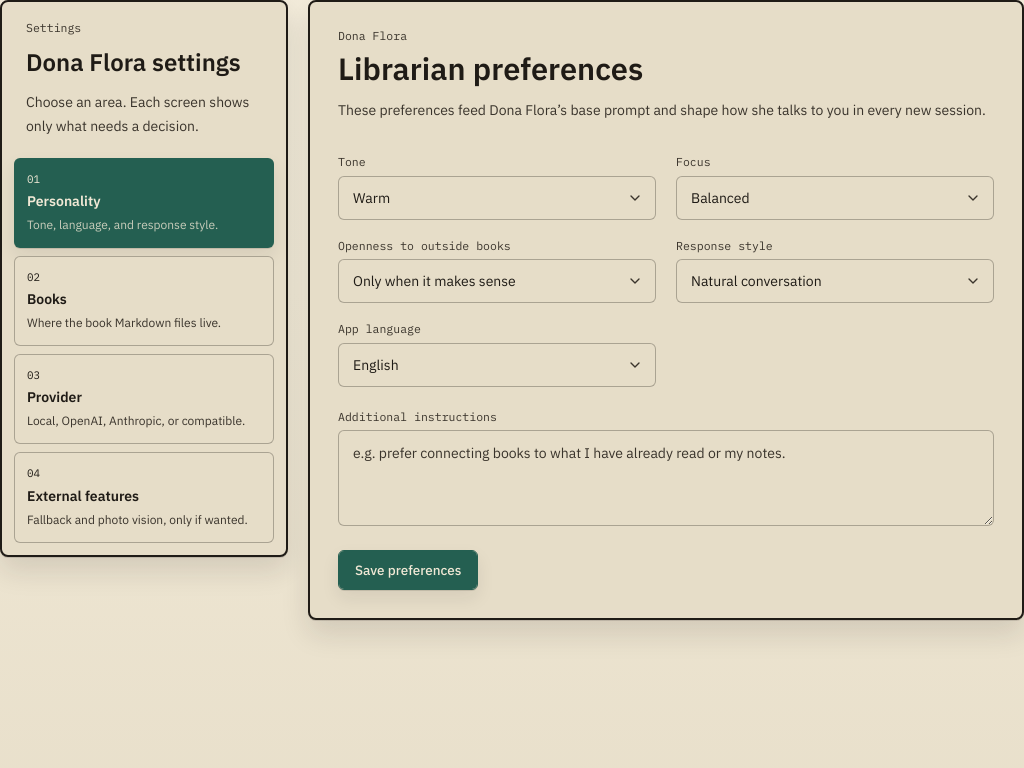
Test: SettingsForm › renders localized AI option labels when the app language is English
Expected: the heading "Librarian preferences" is shown, [338,48,643,88]
Expected: the text "Warm" is shown, [353,189,390,207]
Click the dropdown named "Tone".
click(372, 198)  # box [338,176,656,220]
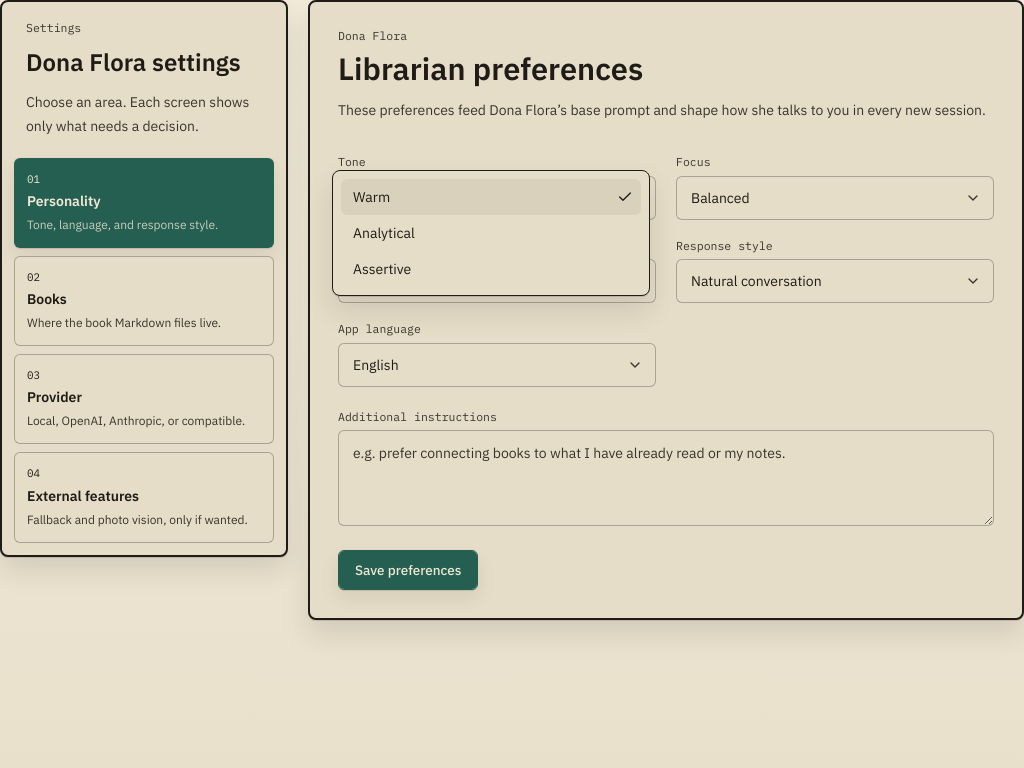
Expected: the text "Analytical" is shown, [353,224,415,242]
Expected: the text "Assertive" is shown, [353,260,411,278]
